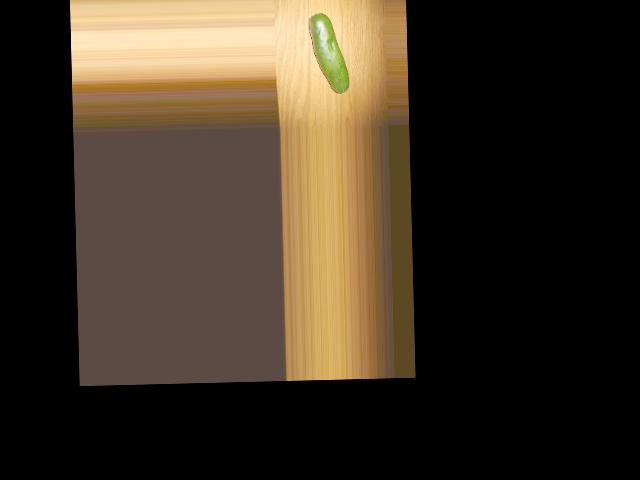cucumber: (308, 13, 349, 94)
